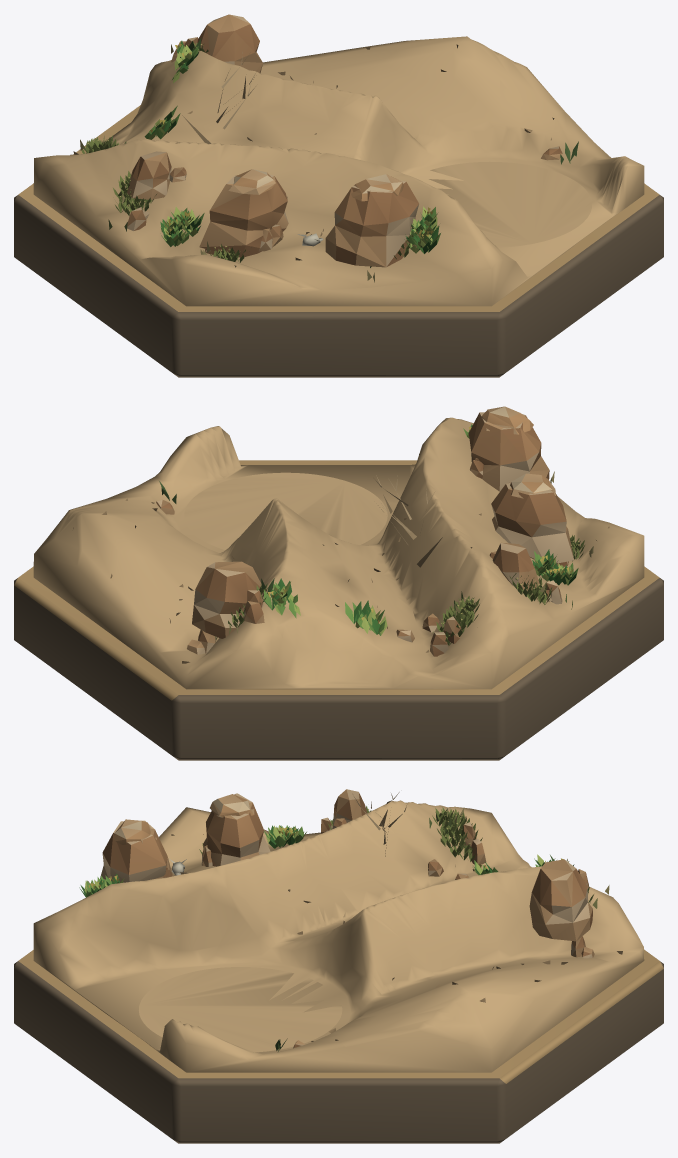
The model's file is tile_desert_lod0.glb.
3 views of the same model, one above another, from view 1: azimuth 30°, elevation 25°; view 2: azimuth 150°, elevation 25°; view 3: azimuth 270°, elevation 25° (orthographic).
Parts seen in each view (by area): view 1: tile_desert_LOD0; view 2: tile_desert_LOD0; view 3: tile_desert_LOD0.
Part boxes in pixels (bbox=[...]): tile_desert_LOD0: bbox=[14, 14, 663, 377]; tile_desert_LOD0: bbox=[14, 406, 663, 760]; tile_desert_LOD0: bbox=[14, 789, 663, 1143].
Bounding box in the file's own units: 1.73 × 0.6887 × 1.98.
